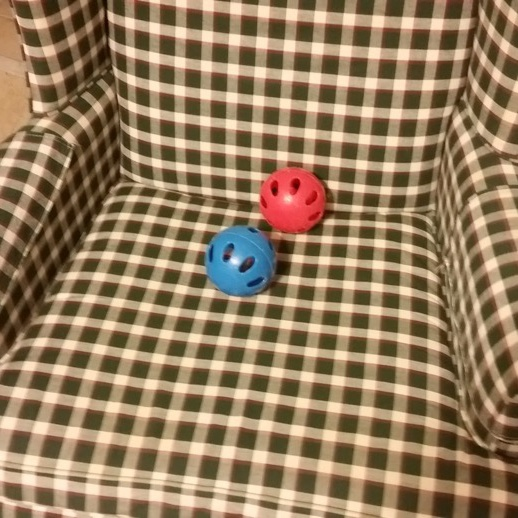ball: (202, 224, 280, 300), (256, 164, 330, 237)
